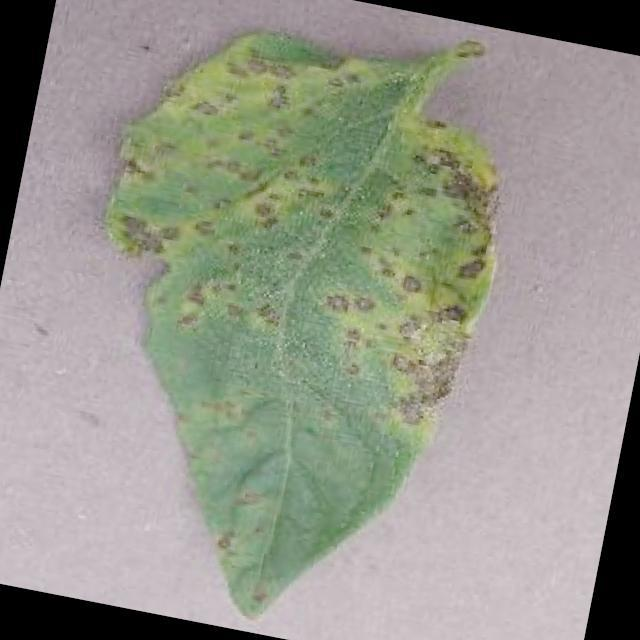Tomato Septoria spot leaf: (35, 7, 523, 640)
